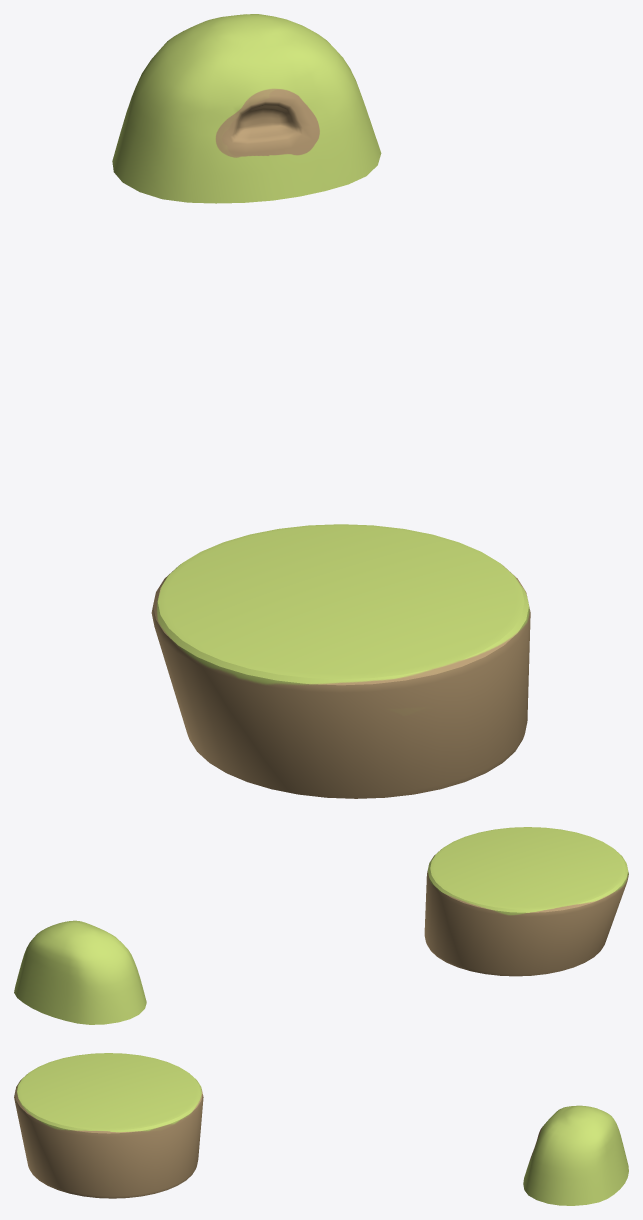
The model's file is mod_oldCave_000.FBX.
The picture shows the model from 3 angles, top to bottom: view 1: azimuth 30°, elevation 25°; view 2: azimuth 150°, elevation 25°; view 3: azimuth 270°, elevation 25°; orthographic projection. The views are drawn at different scales.
Visible parts, largest first — view 1: Floor_2; view 2: Floor_2; view 3: Floor_2.
Boxes of the visible parts, <box> form: Floor_2: <box>112,14,530,798</box>; Floor_2: <box>14,827,628,1024</box>; Floor_2: <box>14,1053,628,1205</box>.
Size of the model in its own units: 10850 by 4377 by 17711.
